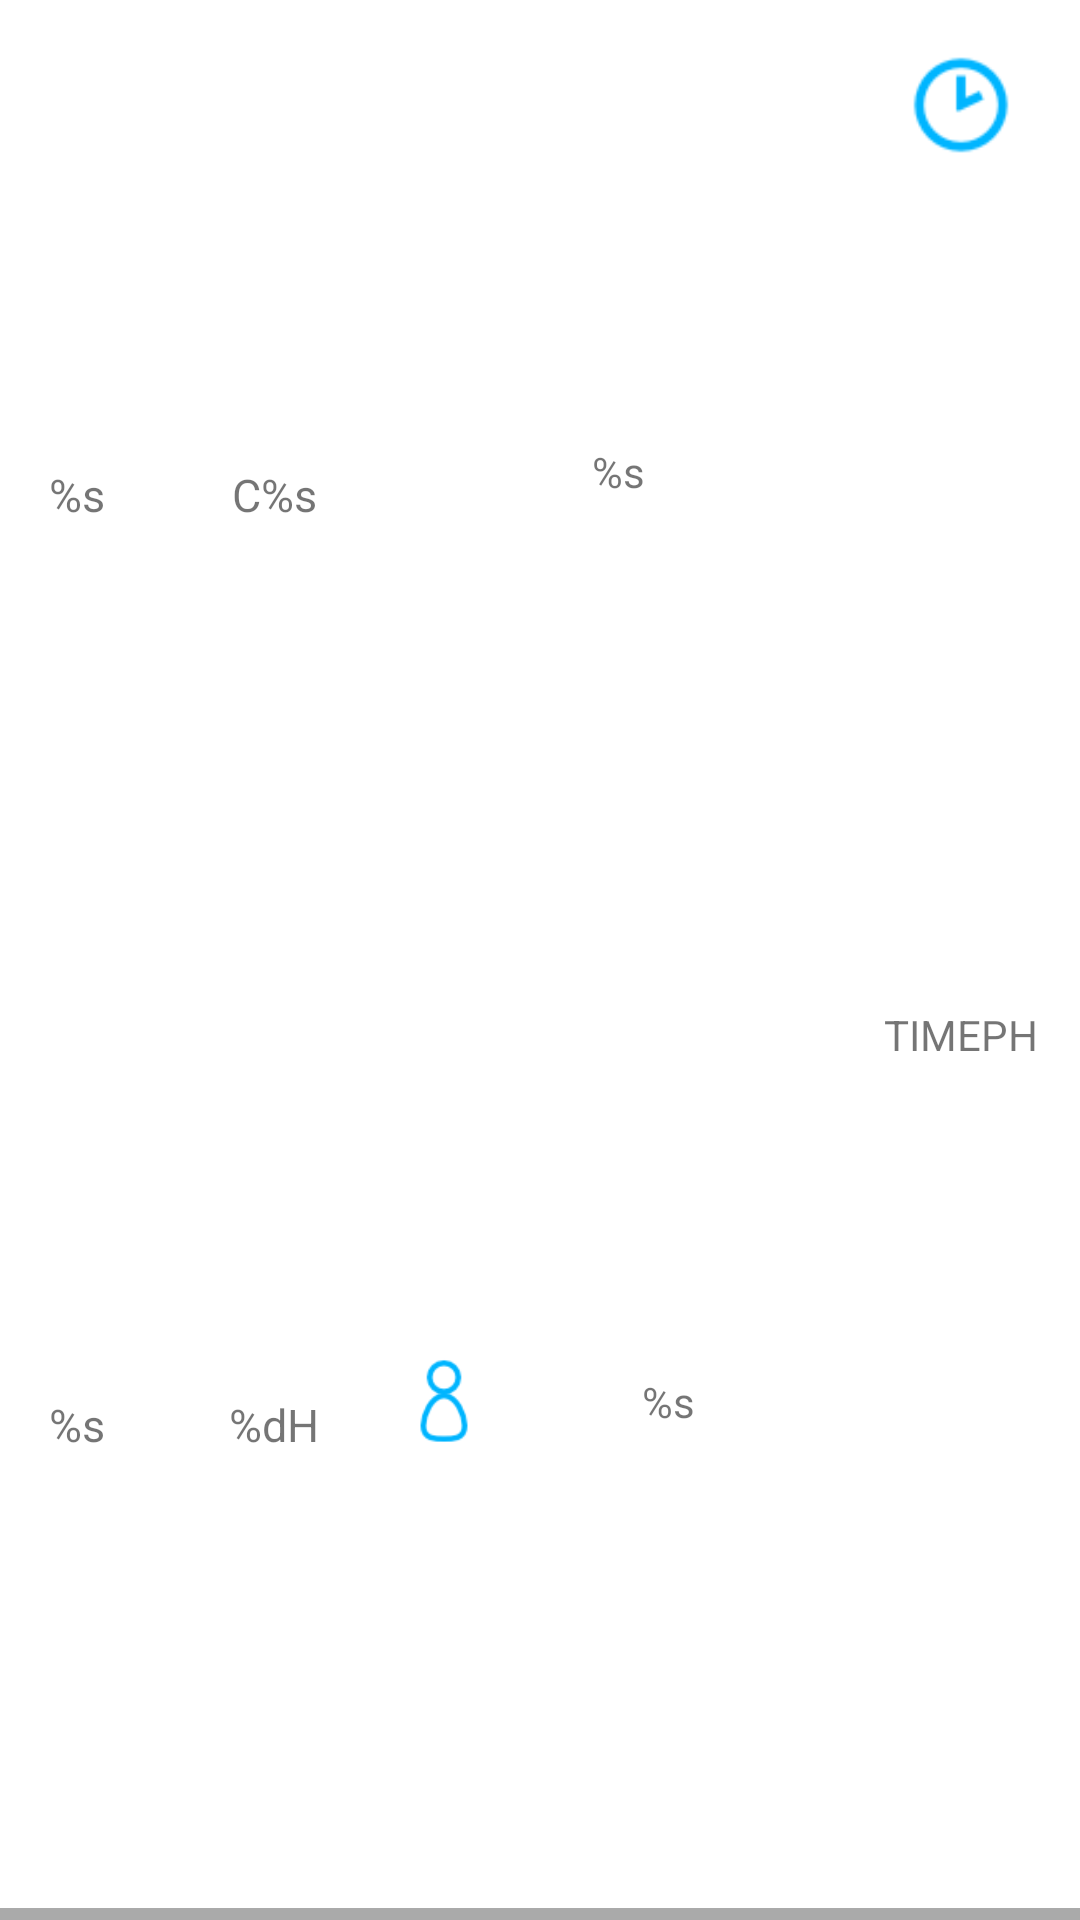

Screen size 1080*1920. Icon name, then its box in pixels as region(x1, y1, x2, y2):
personicon: region(420, 1360, 468, 1442)
timeicon: region(913, 57, 1009, 153)
